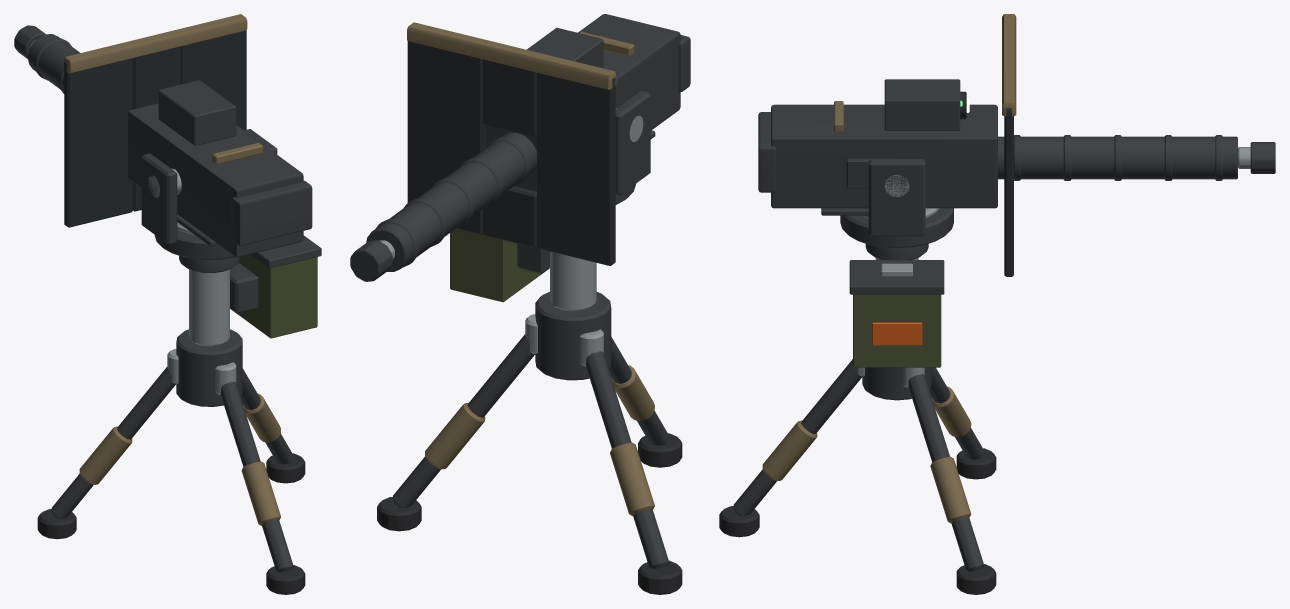
The model's file is eqp_sentry.glb.
3 renders of one model, left to right at view 1: azimuth 30°, elevation 25°; view 2: azimuth 150°, elevation 25°; view 3: azimuth 270°, elevation 25°, orthographic. The views are drawn at different scales.
Visible parts, largest first — view 1: Gun, Base, Shield, AmmoBox, YawMesh; view 2: Shield, Base, Gun, AmmoBox, YawMesh; view 3: Gun, Base, AmmoBox, YawMesh, Shield.
Part boxes in pixels (x1=…): Gun: x1=14, y1=25, x2=312, y2=257; Base: x1=37, y1=256, x2=305, y2=594; Shield: x1=63, y1=14, x2=247, y2=227; AmmoBox: x1=231, y1=235, x2=321, y2=338; YawMesh: x1=141, y1=129, x2=277, y2=259; Shield: x1=407, y1=22, x2=616, y2=265; Base: x1=377, y1=243, x2=682, y2=594; Gun: x1=350, y1=14, x2=690, y2=281; AmmoBox: x1=450, y1=228, x2=549, y2=302; YawMesh: x1=615, y1=91, x2=650, y2=204; Gun: x1=758, y1=79, x2=1275, y2=215; Base: x1=719, y1=244, x2=996, y2=594; AmmoBox: x1=849, y1=260, x2=944, y2=367; YawMesh: x1=840, y1=159, x2=953, y2=248; Shield: x1=1002, y1=14, x2=1016, y2=276.
Size of the model in its own units: 0.4949 by 0.824 by 0.882.
